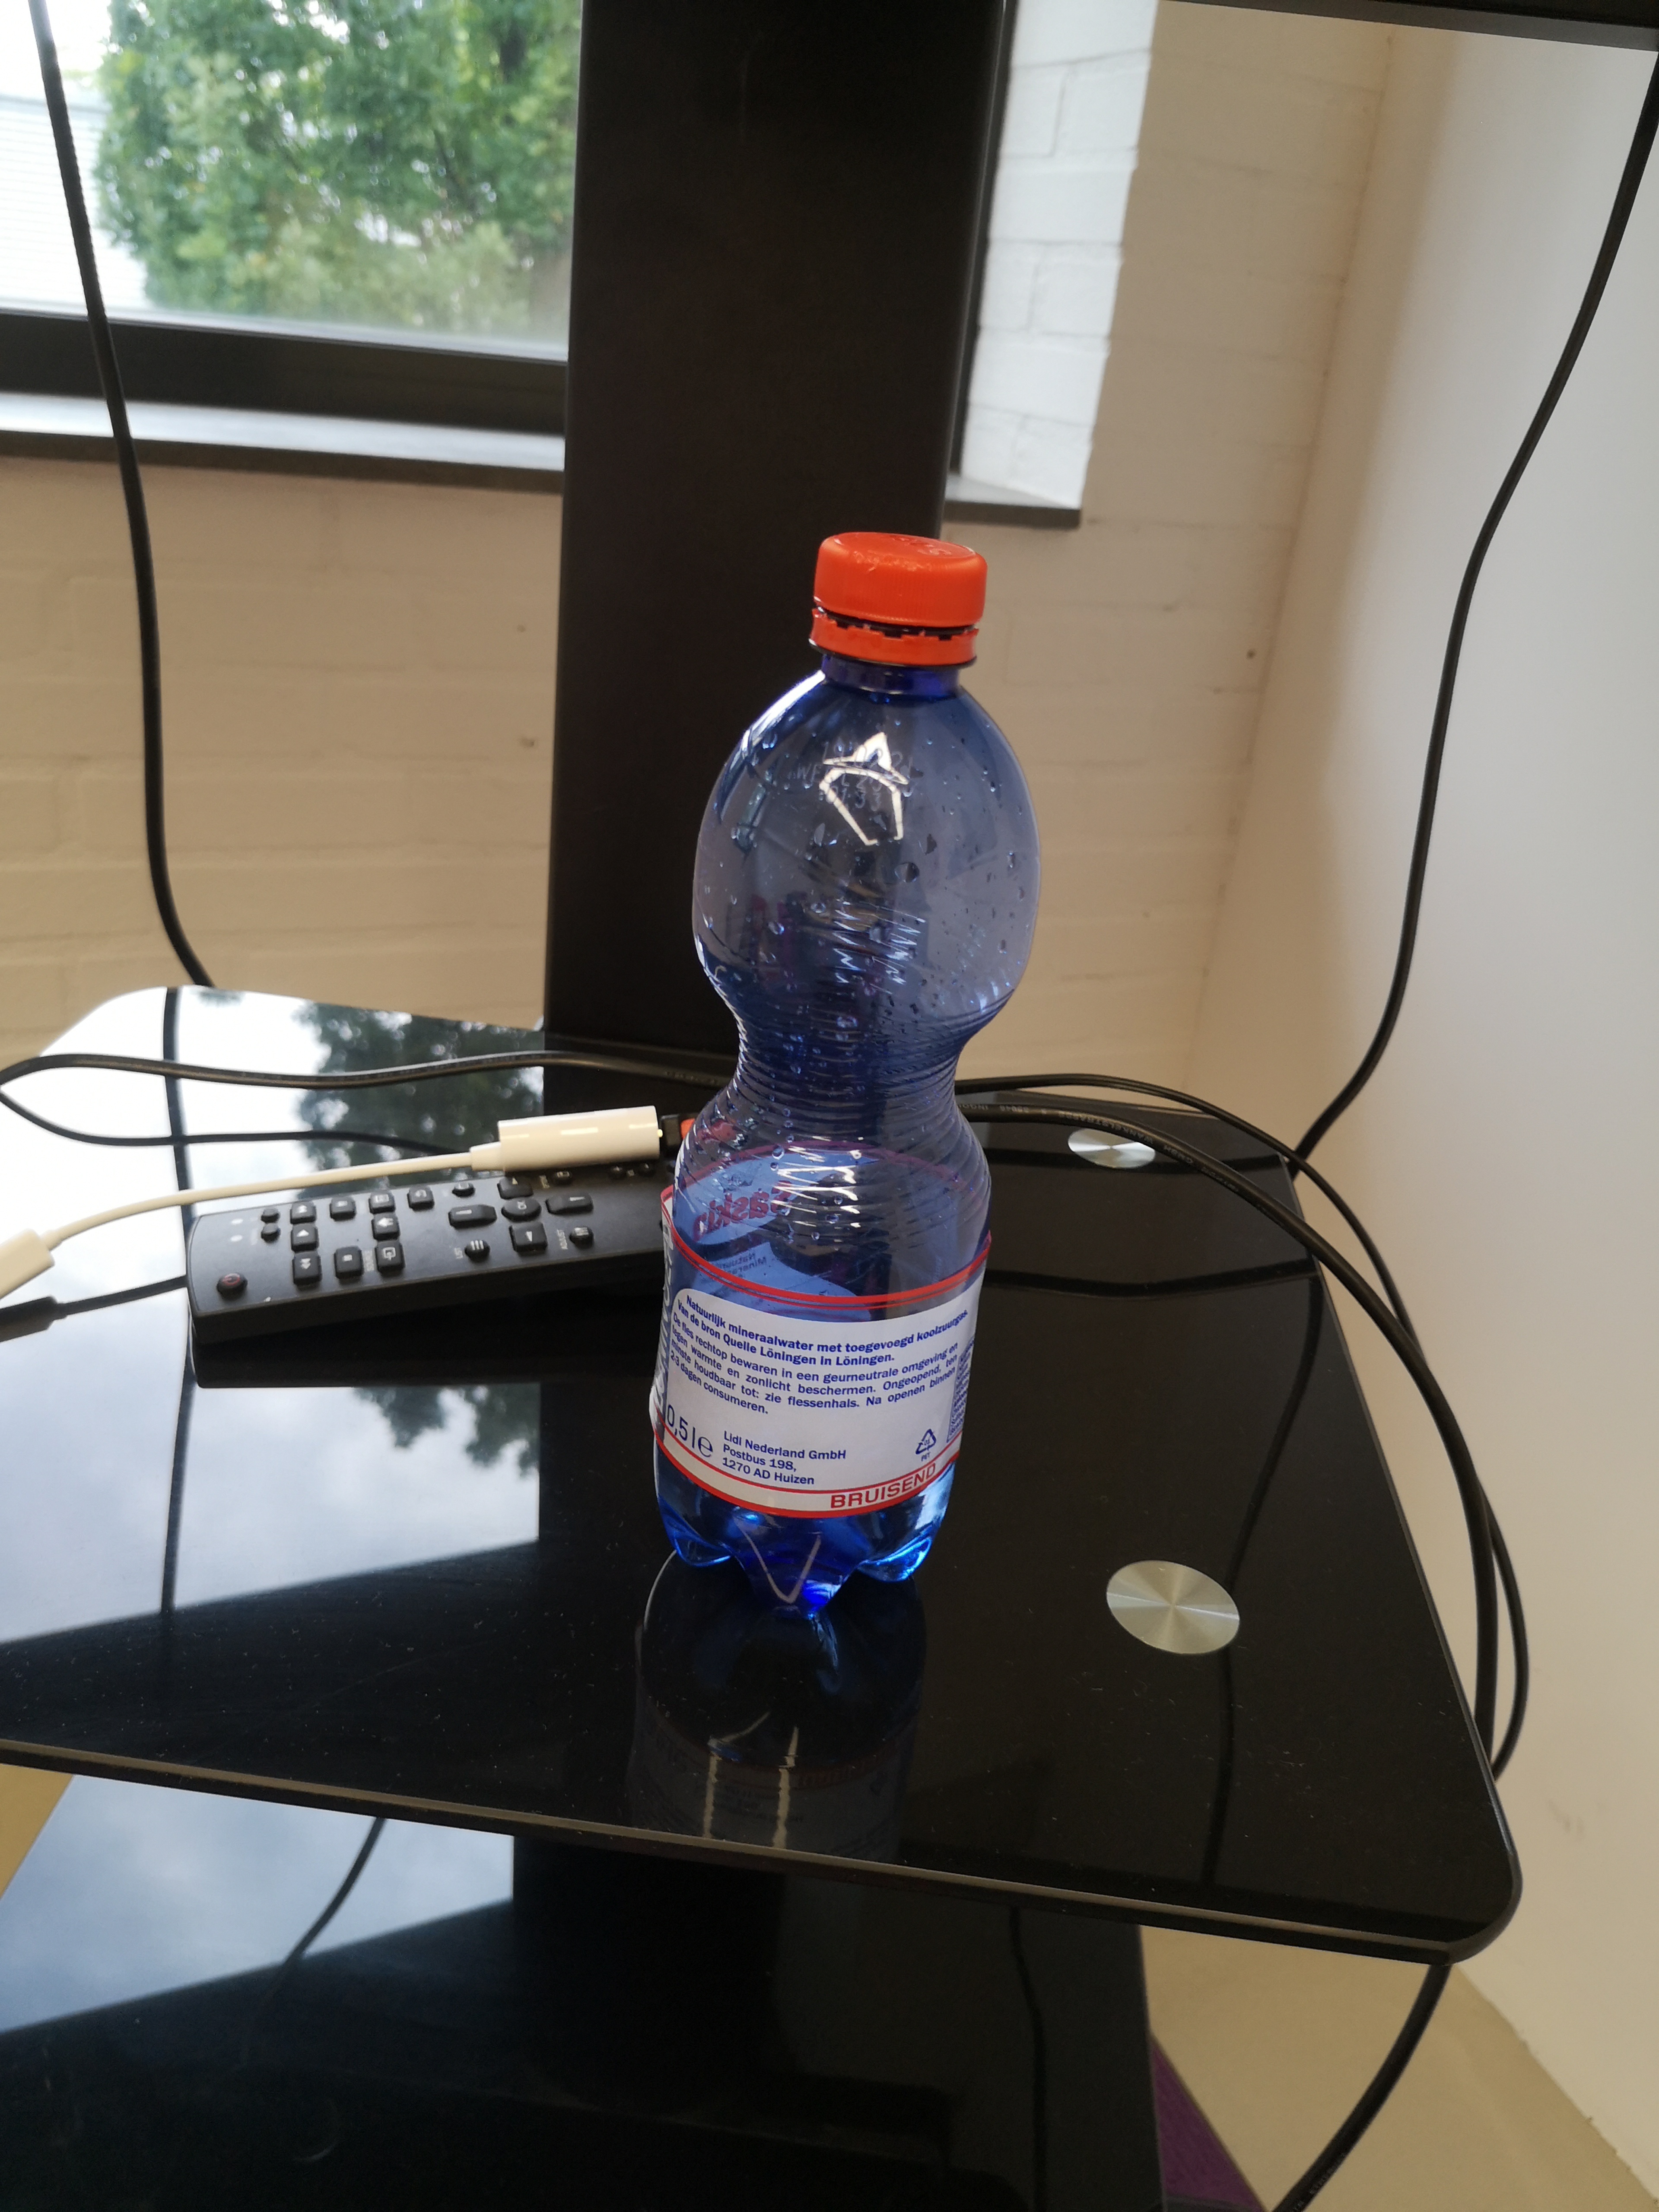plastic_bottle: (606, 503, 1073, 1623)
